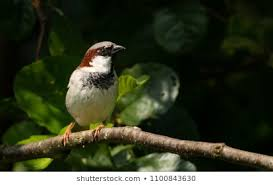home_sparrow: (58, 38, 130, 154)
